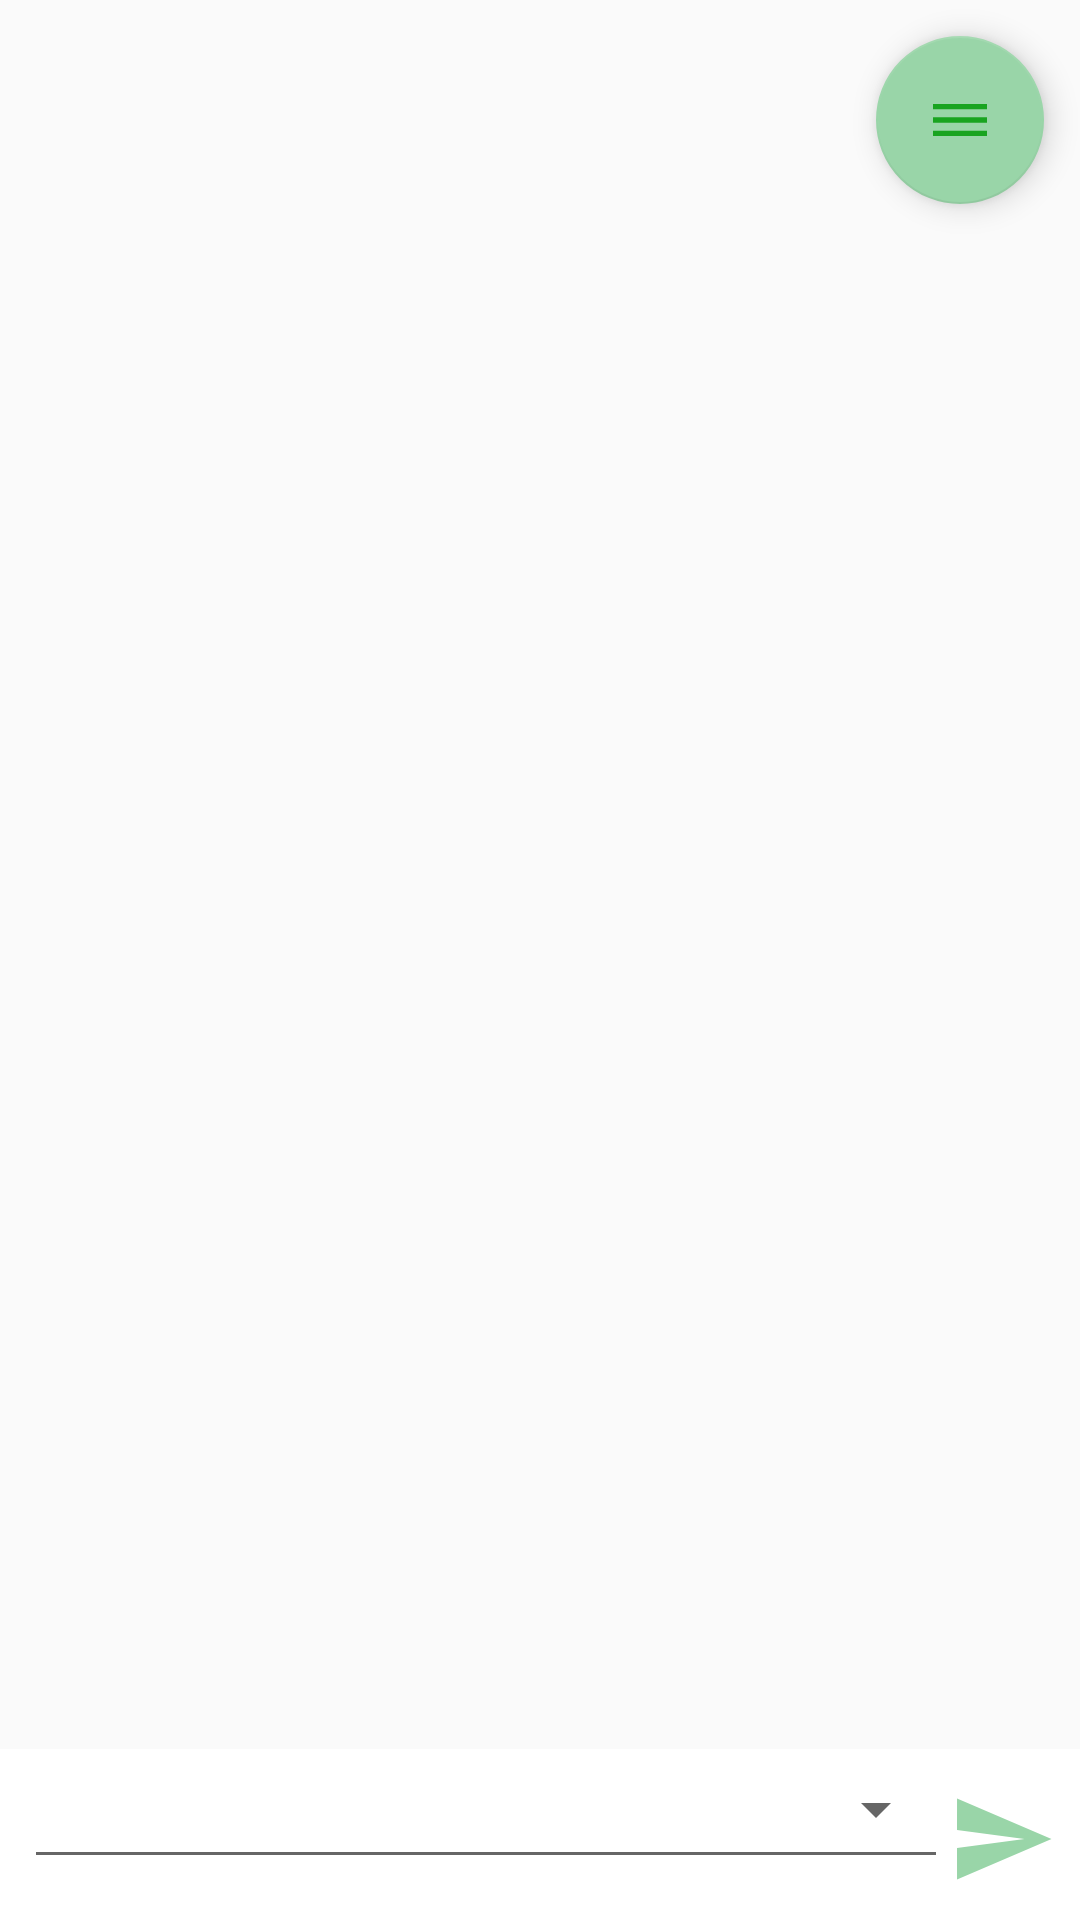

Named icons in this screenshot (1080*1920) and their bounding boxes, detection(x1, y1, x2, y2):
chatbot send: detection(957, 1798, 1051, 1880)
drawer: detection(876, 36, 1044, 204)
